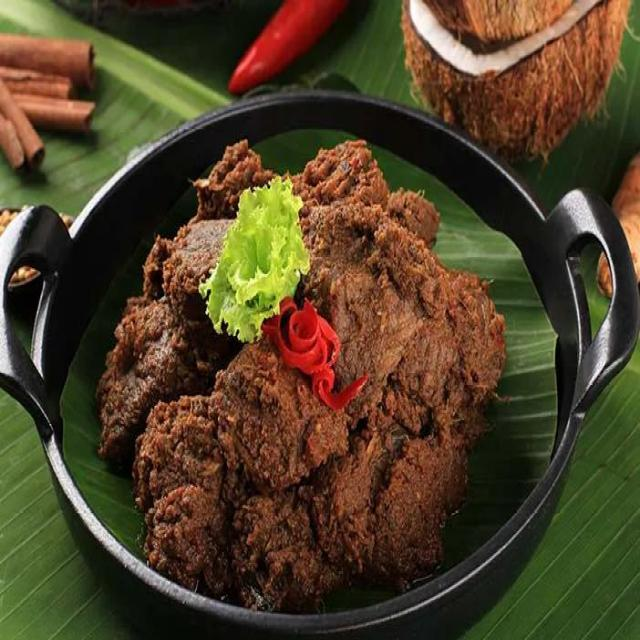Rendang: (101, 135, 514, 596)
